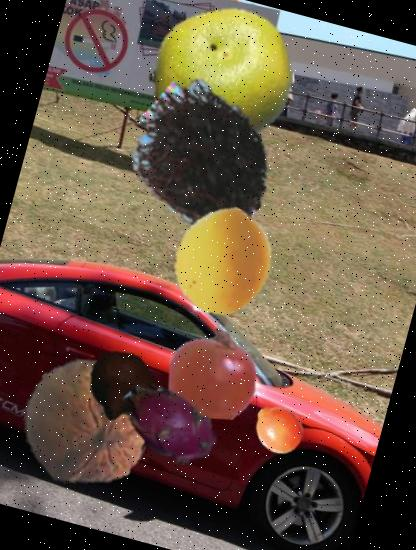Peach: (156, 194, 292, 329)
Pear: (77, 344, 165, 432)
Pitahaya: (105, 365, 230, 490)
Pomelo: (133, 0, 311, 167)
Rambutan: (112, 68, 296, 252)
Redcurrant: (157, 318, 270, 430)
Tangelo: (246, 397, 310, 462)
Walnut: (5, 345, 167, 506)
